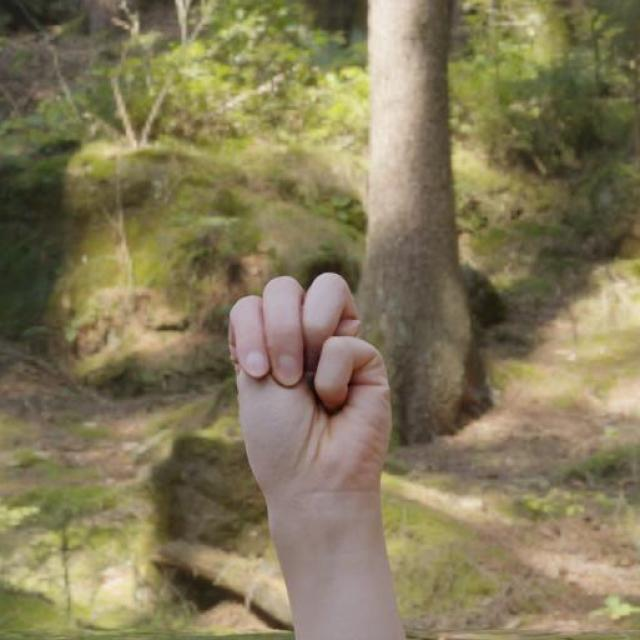M: (225, 268, 396, 504)
